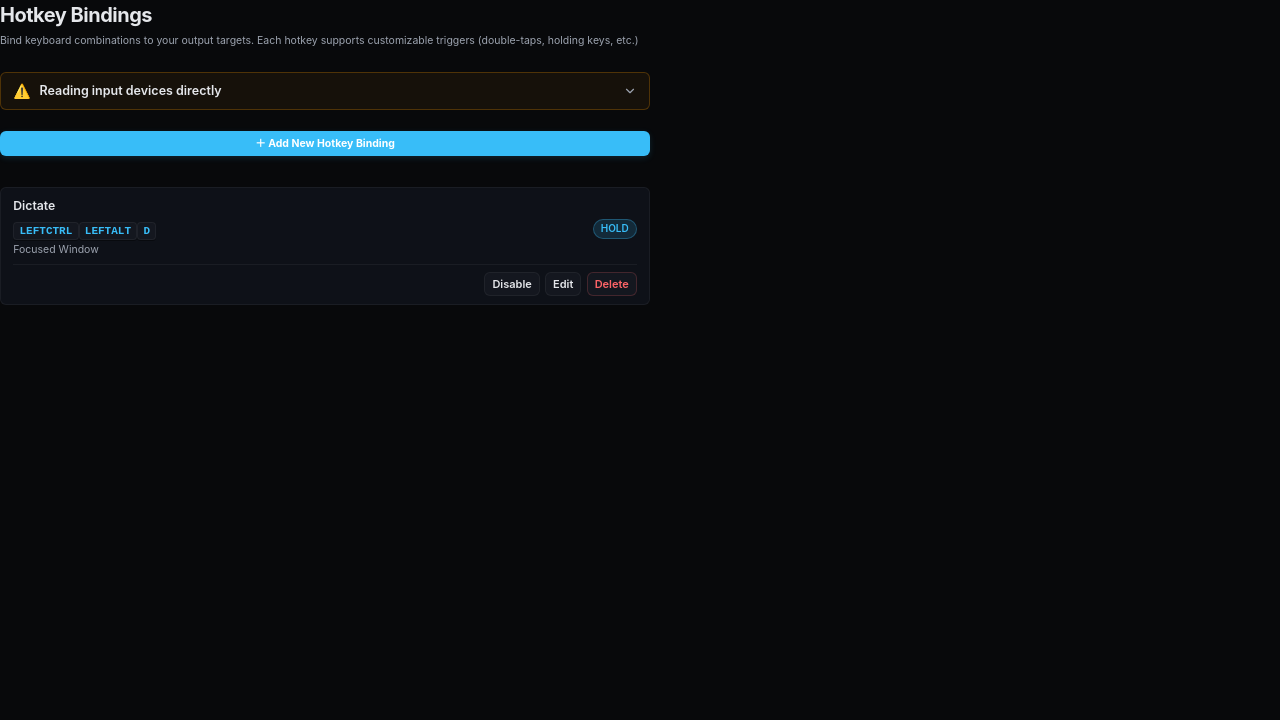
Test: HotkeysTab.svelte Conflict Detection and Nested Modal › does not block bare modifiers when VoxCtrl watches the keyboard itself
Click the button "Edit": (563, 284) [545, 272, 581, 296]
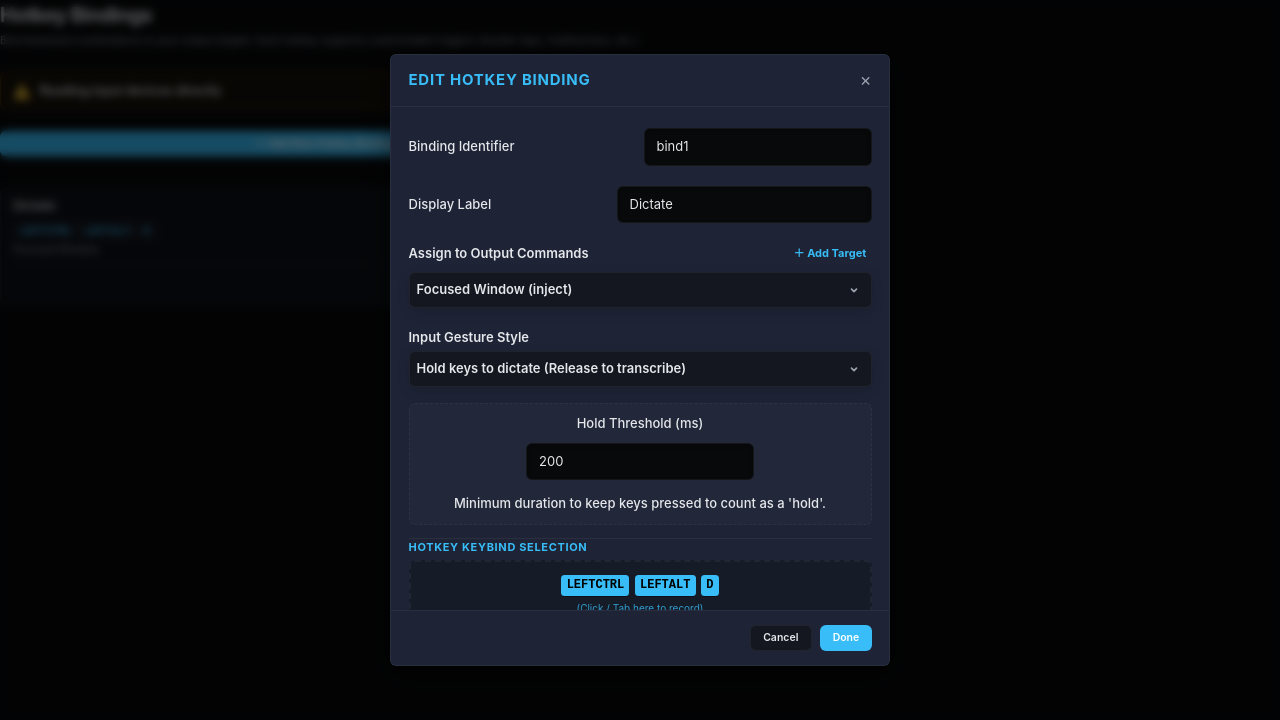
Focus the button with aria-label "Base Hotkey recorder input": (640, 595) [408, 560, 872, 630]
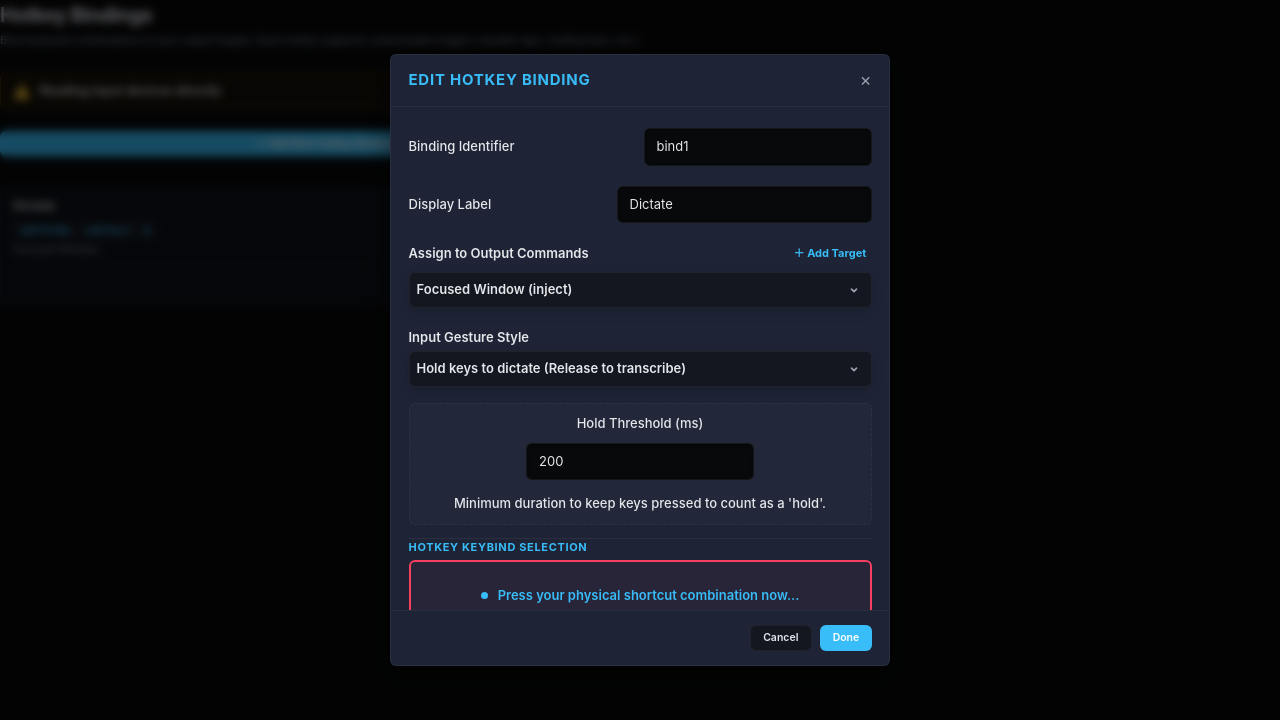
Press Meta in the button with aria-label "Base Hotkey recorder input", box [408, 560, 872, 630]
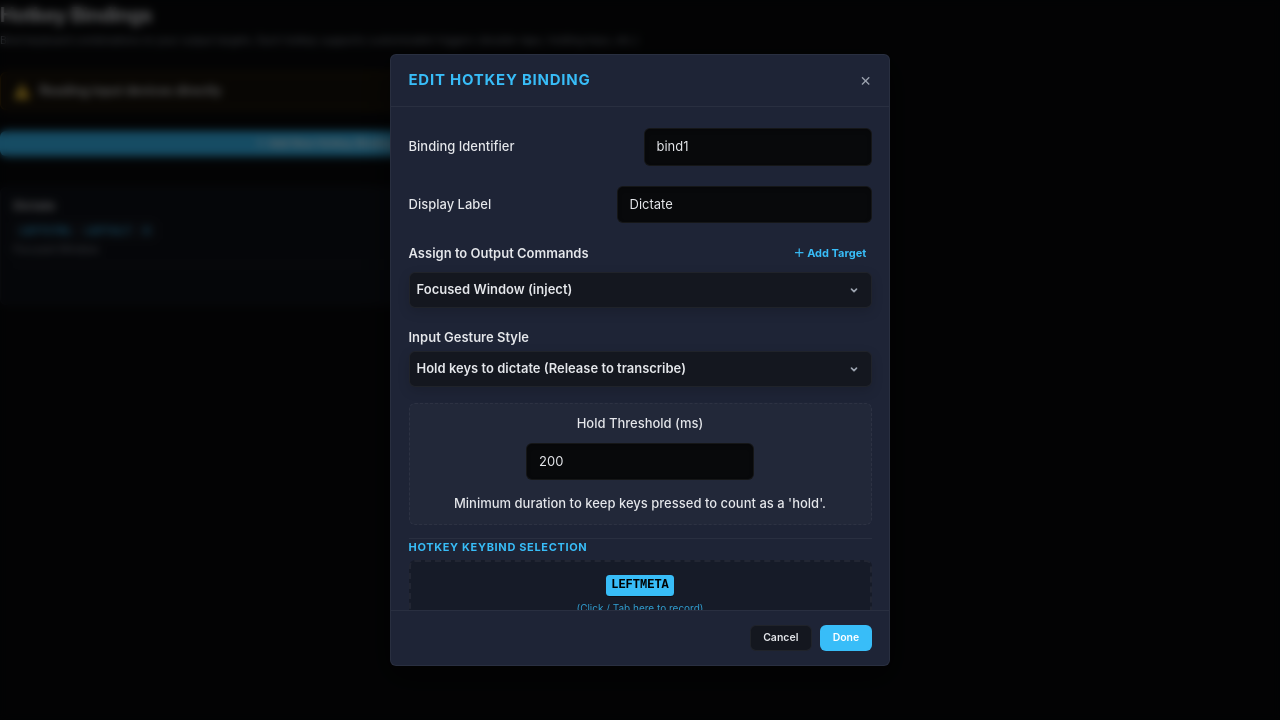
Check: the text "LEFTMETA" is shown, box [606, 574, 674, 596]
